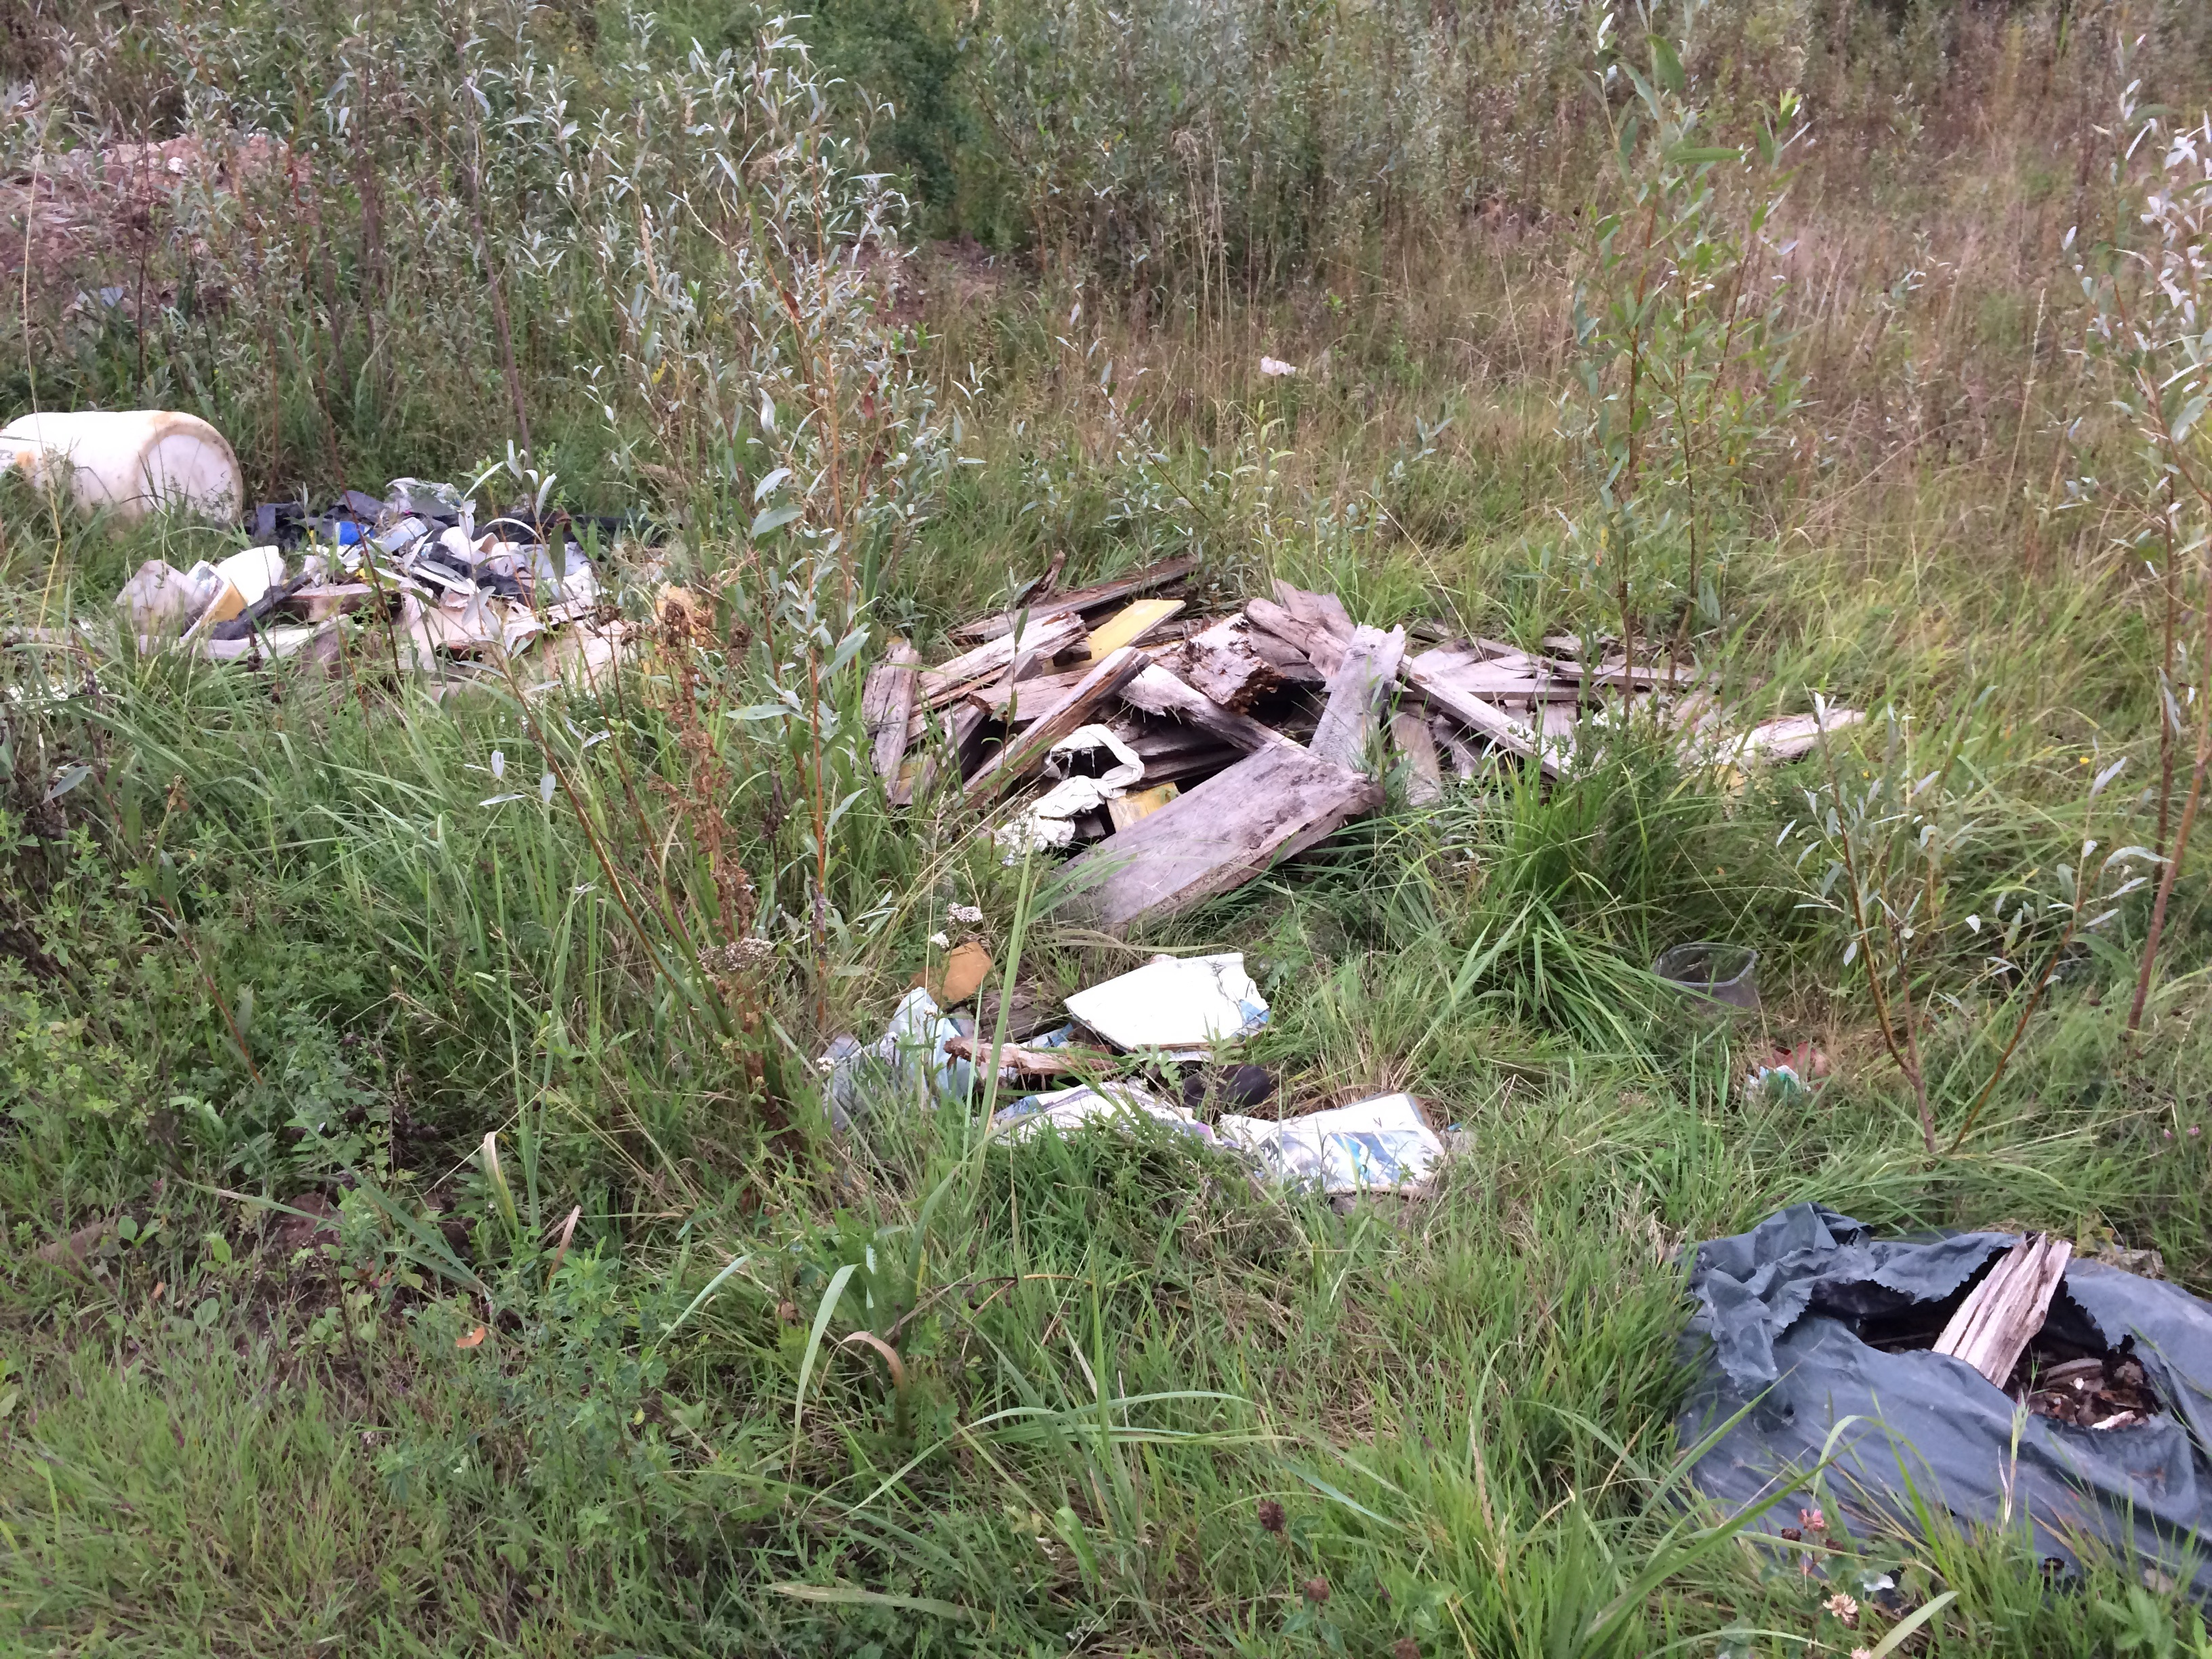trash: (752, 525, 1881, 1164), (1663, 1187, 2212, 1608), (37, 350, 583, 742)
